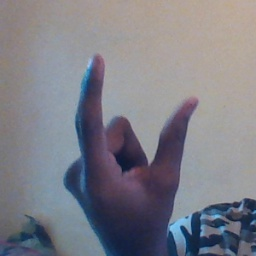U: (59, 52, 205, 224)
